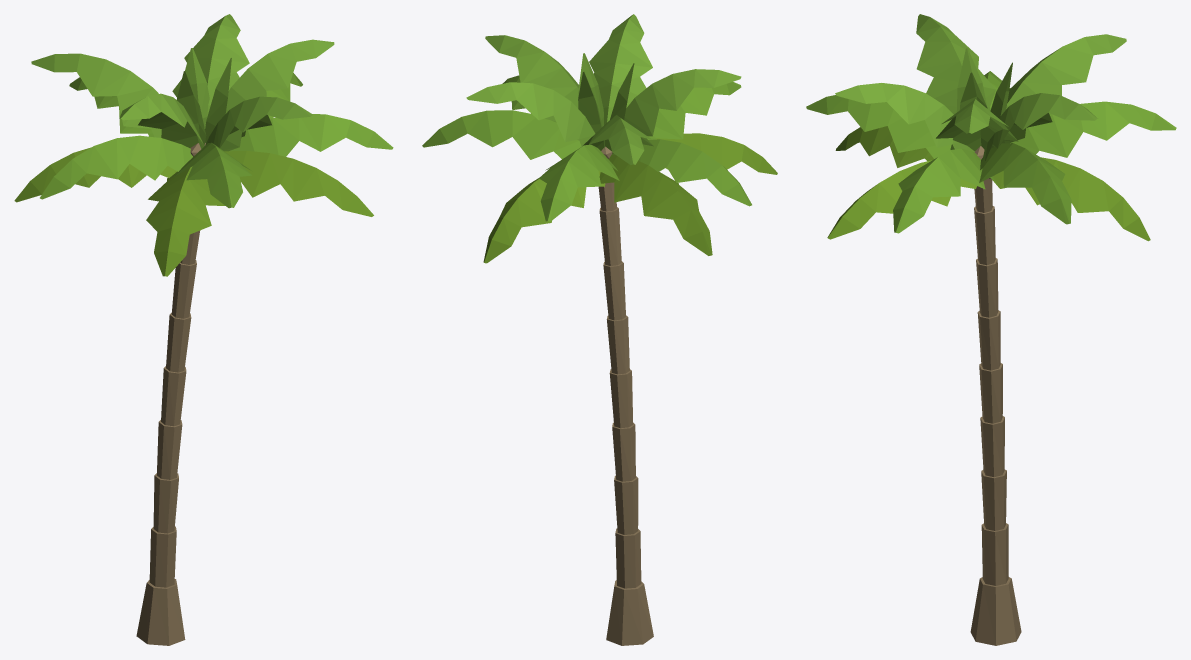
File: palm_b.glb
The picture shows the model from 3 angles, left to right: view 1: azimuth 30°, elevation 25°; view 2: azimuth 150°, elevation 25°; view 3: azimuth 270°, elevation 25°; orthographic projection. The views are drawn at different scales.
Parts seen in each view (by area): view 1: palm; view 2: palm; view 3: palm.
Boxes of the visible parts, x1,y1,x2,y2 form: palm: (14,14,393,645); palm: (422,14,777,645); palm: (806,14,1176,645).
Size of the model in its own units: 7 by 12.47 by 7.08.
